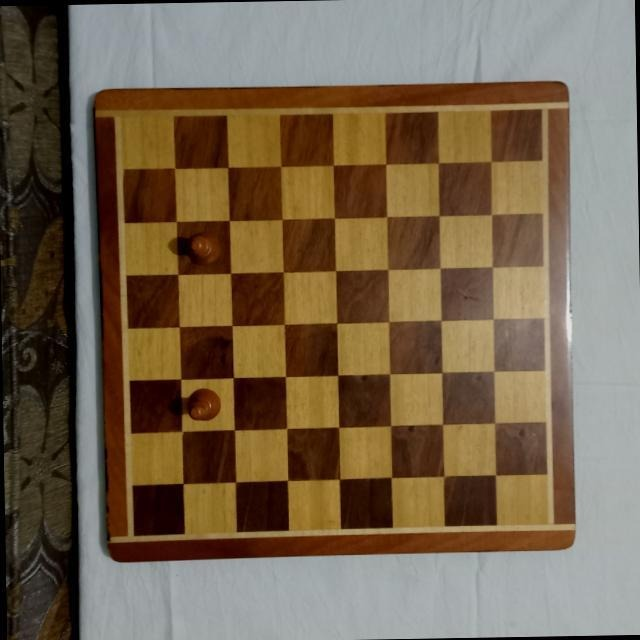white-pawn: (180, 230, 223, 266), (185, 385, 221, 422)
